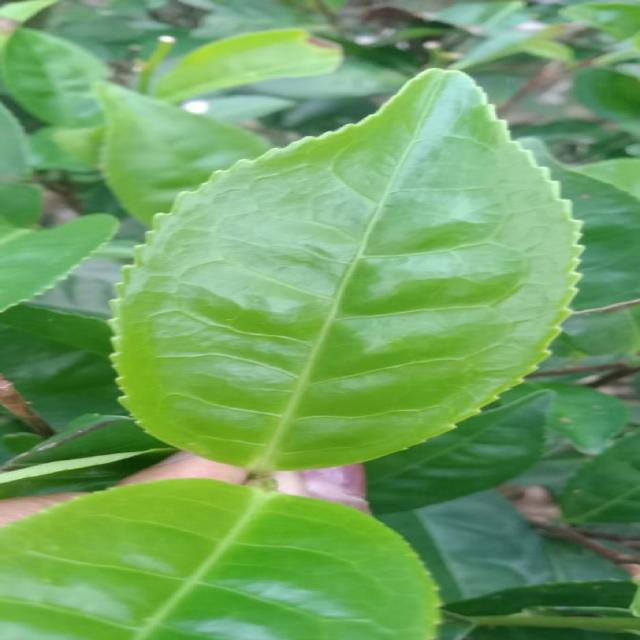Category B(2-4 days): (84, 54, 595, 484)
